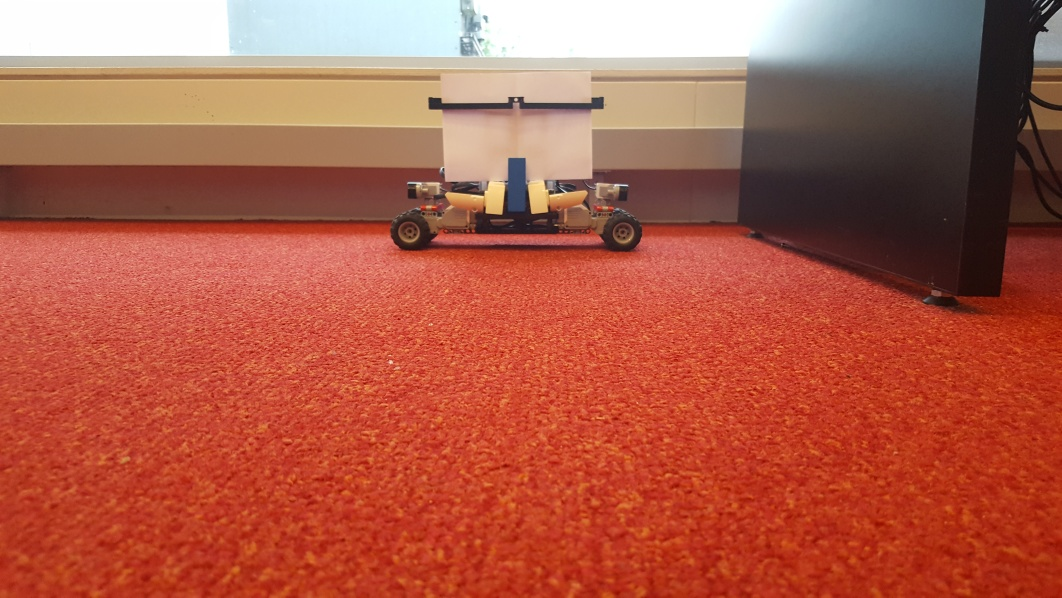car: (390, 71, 643, 253)
